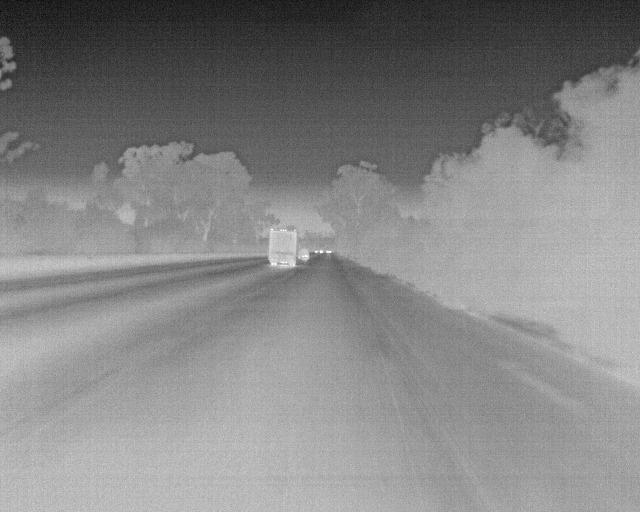car: (298, 246, 312, 263)
